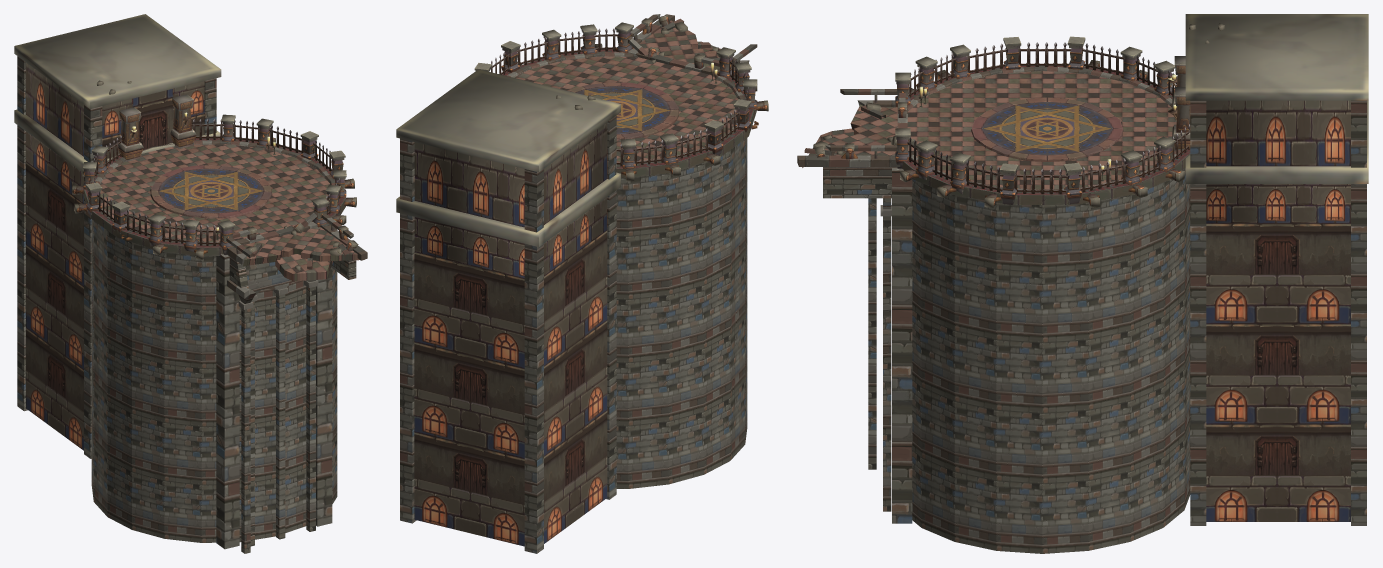
Rendered from jingjichang.FBX.
The picture shows the model from 3 angles, left to right: view 1: azimuth 30°, elevation 25°; view 2: azimuth 150°, elevation 25°; view 3: azimuth 270°, elevation 25°; orthographic projection. The views are drawn at different scales.
Parts seen in each view (by area): view 1: group03, group01, group02, group06, group11, group09, group07; view 2: group01, group03, group02, group06, group11, group09, group07; view 3: group03, group01, group02, group06, group11, group09, group07.
Part boxes in pixels (<box>): group03: <box>17,56,367,553</box>; group01: <box>26,62,204,450</box>; group02: <box>14,14,358,270</box>; group06: <box>100,144,364,281</box>; group11: <box>150,165,272,218</box>; group09: <box>89,119,340,245</box>; group07: <box>83,138,345,256</box>; group01: <box>414,122,607,546</box>; group03: <box>400,14,757,553</box>; group02: <box>396,15,768,246</box>; group06: <box>514,20,737,162</box>; group11: <box>567,82,679,140</box>; group09: <box>487,28,748,166</box>; group07: <box>502,49,756,177</box>; group03: <box>797,66,1366,553</box>; group01: <box>1206,100,1350,521</box>; group02: <box>813,14,1368,207</box>; group06: <box>802,71,1176,189</box>; group11: <box>971,97,1123,161</box>; group09: <box>907,42,1189,194</box>; group07: <box>902,65,1190,205</box>.
Size of the model in its own units: 14.95 by 22.03 by 25.81.
